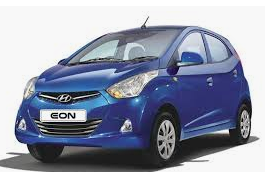car: (15, 20, 252, 167)
